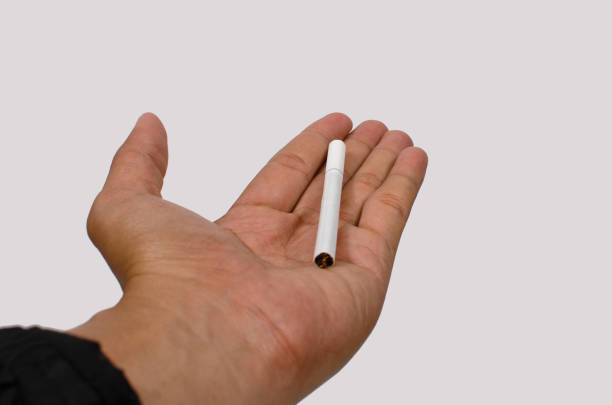cigarette: (312, 139, 349, 270)
